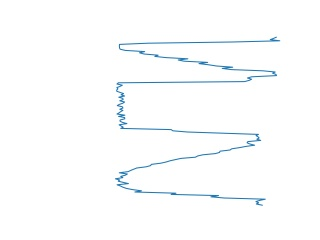distributaryChannelFill: (112, 73, 263, 143)
mouthBar: (116, 35, 283, 78)
underwaterDistributaryChannel: (111, 138, 267, 208)
